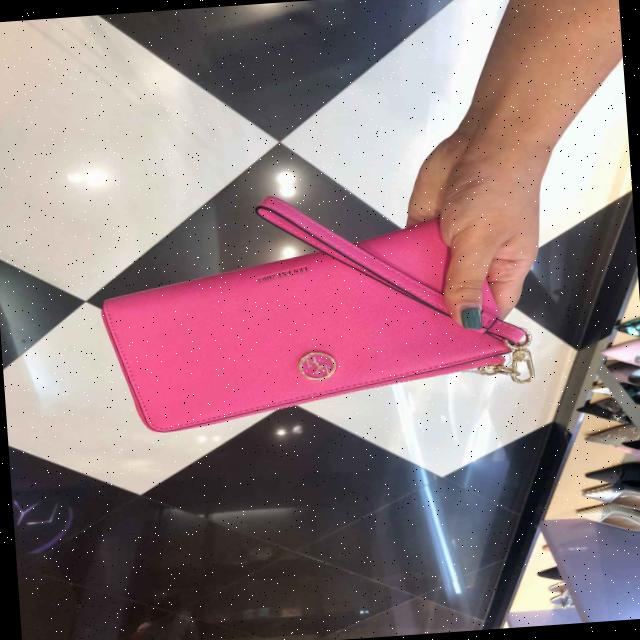Handbag: (78, 197, 493, 438)
